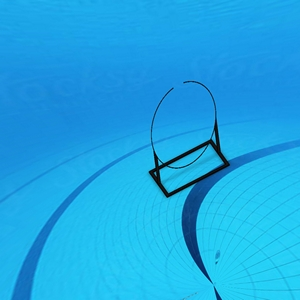circle: (145, 78, 234, 199)
